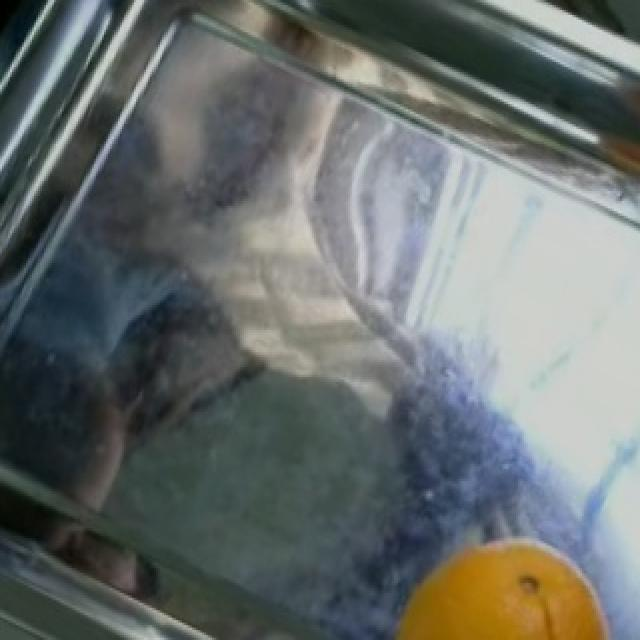Fruit: (384, 516, 628, 640)
